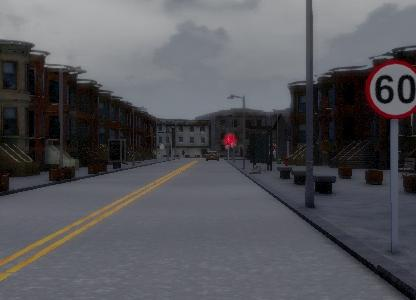Speed_60: (365, 57, 416, 119)
